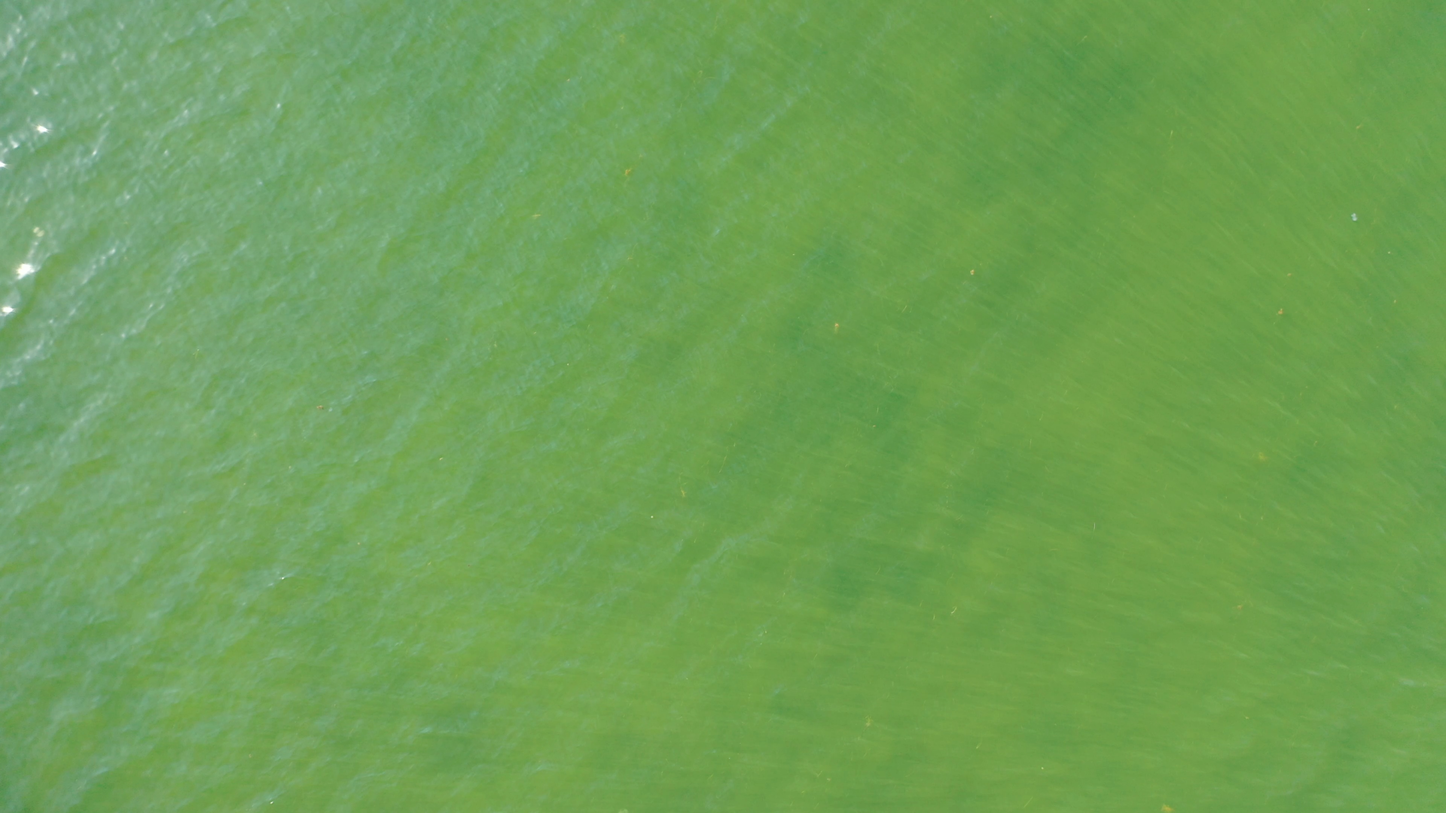meduse: (34, 226, 44, 237), (1351, 212, 1359, 220)
